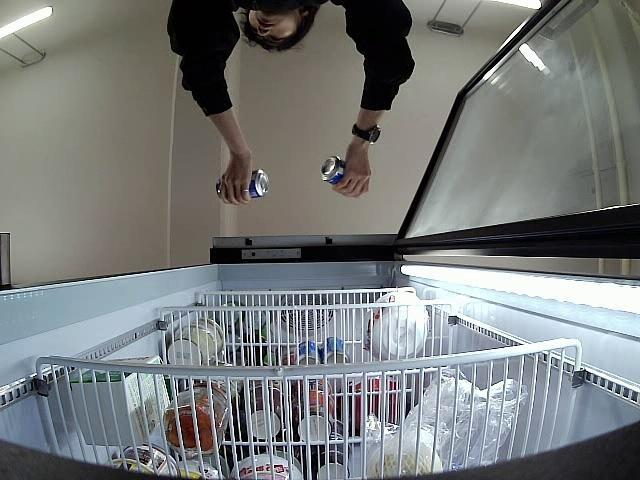13_pocariSweat: (216, 169, 268, 200), (320, 156, 344, 183)
